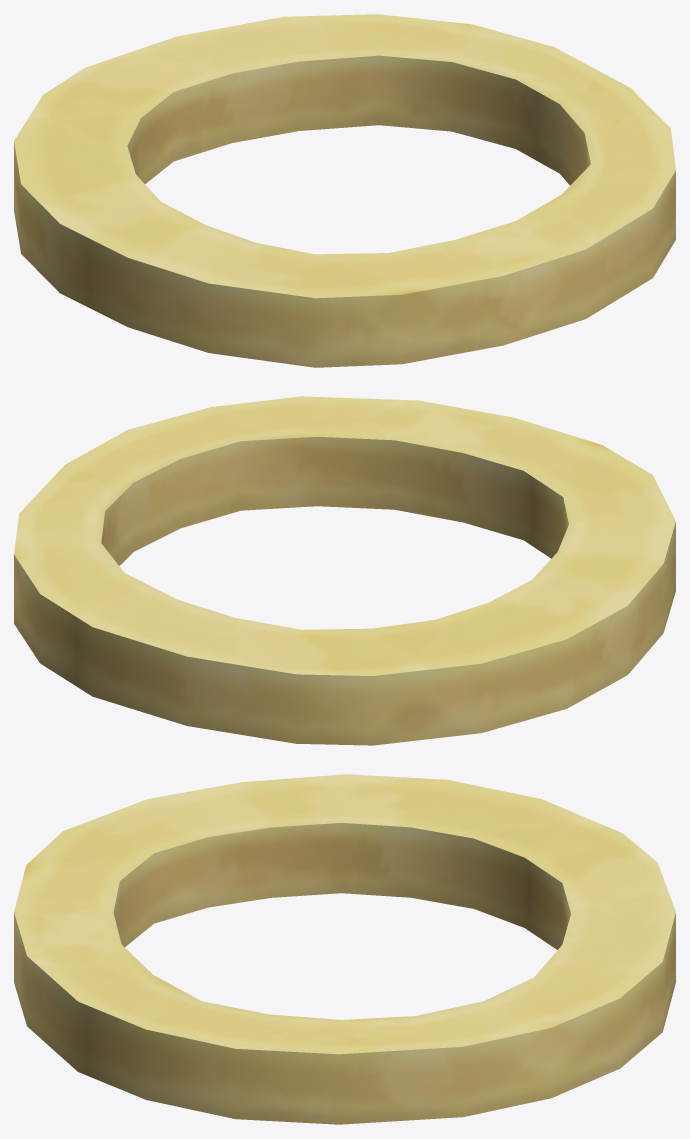
File: SM_OnionARingA.glb
The picture shows the model from 3 angles, top to bottom: view 1: azimuth 30°, elevation 25°; view 2: azimuth 150°, elevation 25°; view 3: azimuth 270°, elevation 25°; orthographic projection.
Visible parts, largest first — view 1: SM_OnionARingA; view 2: SM_OnionARingA; view 3: SM_OnionARingA.
Boxes of the visible parts, x1,y1,x2,y2 form: SM_OnionARingA: (14,14,675,367); SM_OnionARingA: (14,396,675,745); SM_OnionARingA: (14,774,675,1124).
Bounding box in the file's own units: 0.0761 × 0.00892 × 0.076.
1 material, 1 textured.
